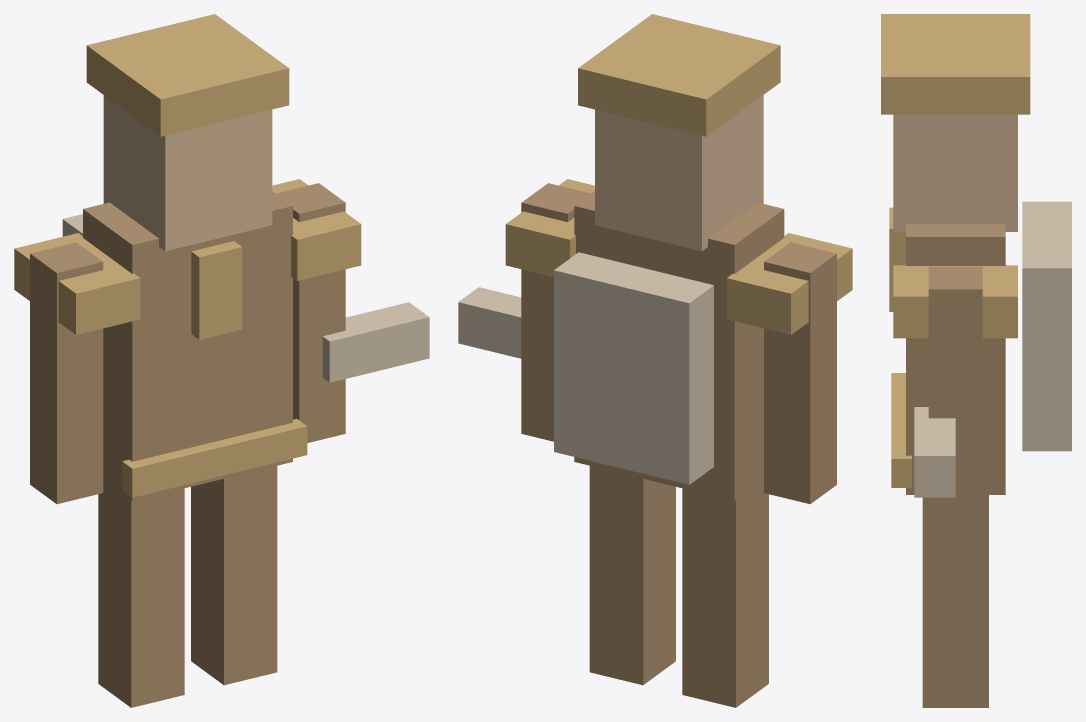
Rendered from 01_orin_gearmantle_scout_near_cadence.glb.
3 views of the same model, side by side, from view 1: azimuth 30°, elevation 25°; view 2: azimuth 150°, elevation 25°; view 3: azimuth 270°, elevation 25° (orthographic).
Parts seen in each view (by area): view 1: Orin Gearmantle, Scout near Cadence; view 2: Orin Gearmantle, Scout near Cadence; view 3: Orin Gearmantle, Scout near Cadence.
Part boxes in pixels (<box>): Orin Gearmantle, Scout near Cadence: <box>14,14,429,707</box>; Orin Gearmantle, Scout near Cadence: <box>458,14,852,707</box>; Orin Gearmantle, Scout near Cadence: <box>881,14,1071,707</box>.
Bounding box in the file's own units: 0.9802 × 1.59 × 0.4399.
